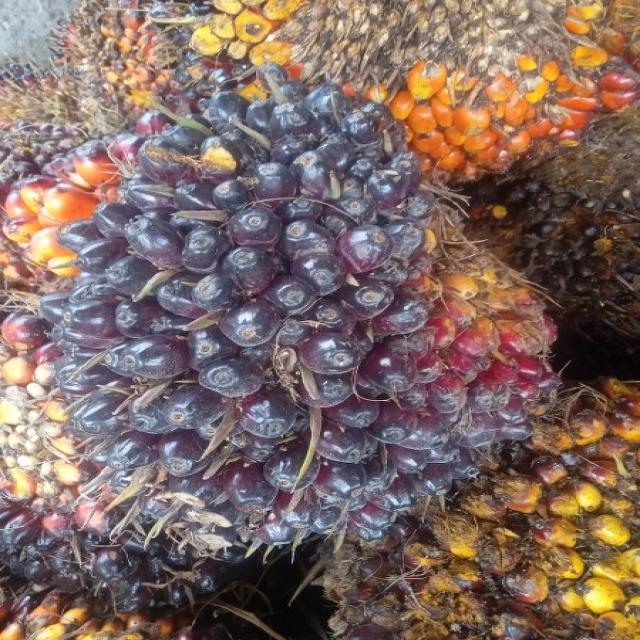fraksi 1: (41, 108, 556, 546)
